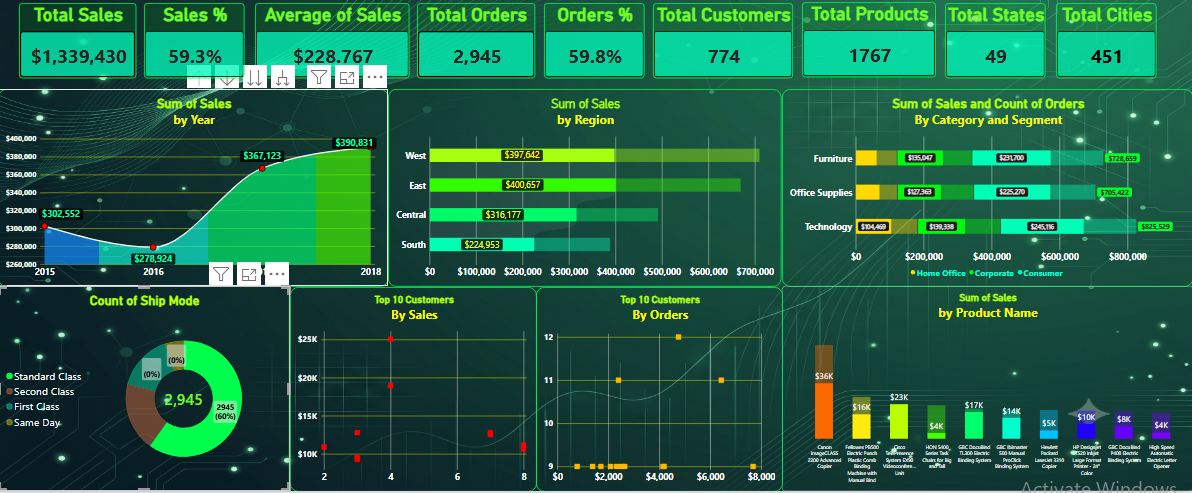

The dashboard page shown, as its layout file describes it:
{"tool":"powerbi","page":{"name":"Report","canvas":[2900,1200],"ordinal":0},"visuals":[{"type":"barChart","fields":{"Category":["sales_2.Region Hierarchy.Region","sales_2.Region Hierarchy.State","sales_2.Region Hierarchy.City"],"Y":["Sum(sales_2.Sales)"]},"box":[947.5,222.5,955,480],"z":0},{"type":"barChart","title":"Sum of Sales and Count of Orders","fields":{"Category":["sales_2.Category Hierarchy.Category","sales_2.Category Hierarchy.Sub-Category","sales_2.Category Hierarchy.Product Name"],"Series":["sales_2.Segment"],"Y":["Sum(sales_2.Sales)"]},"box":[1902.6,223.3,997.5,480],"z":1000},{"type":"cardVisual","title":"Total Sales","fields":{"Data":["Sum(sales_2.Sales)"]},"box":[50,15,284.9,182.8],"z":2000},{"type":"cardVisual","title":"Total Orders","fields":{"Data":["Count(sales_2.Order ID)"]},"box":[1017.5,15,287,182.8],"z":3000},{"type":"cardVisual","title":"Total Customers","fields":{"Data":["Count(sales_2.Customer Name)"]},"box":[1590,15,340,182.5],"z":4000},{"type":"cardVisual","title":"Total Cities","fields":{"Data":["Count(sales_2.City)"]},"box":[2567.5,15,244.5,182.8],"z":5000},{"type":"cardVisual","title":"Average of Sales","fields":{"Data":["Avg(sales_2.Sales)"]},"box":[622.5,15,375,182.5],"z":6000},{"type":"donutChart","title":"Count of Ship Mode","fields":{"Category":["sales_2.Ship Mode"],"Y":["Count(sales_2.Order ID)"]},"box":[0,702.5,707.5,497.5],"z":7000},{"type":"lineChart","fields":{"Category":["sales_2.Order Date.Variation.Date Hierarchy.Year","sales_2.Order Date.Variation.Date Hierarchy.Quarter","sales_2.Order Date.Variation.Date Hierarchy.Month","sales_2.Order Date.Variation.Date Hierarchy.Day"],"Y":["Sum(sales_2.Sales)"]},"box":[0,222.5,947.5,480],"z":8000},{"type":"scatterChart","title":"Top 10 Customers","fields":{"Category":["sales_2.Customer Name"],"X":["Count(sales_2.Order ID)"],"Y":["Sum(sales_2.Sales)"]},"box":[708.5,703,598.7,497.1],"z":9000},{"type":"clusteredColumnChart","fields":{"Category":["sales_2.Product Name"],"Y":["Sum(sales_2.Sales)"]},"box":[1902.5,702.5,997.5,497.5],"z":10000},{"type":"cardVisual","title":"Total States","fields":{"Data":["Count(sales_2.State)"]},"box":[2297.5,15,244.5,182.8],"z":11000},{"type":"cardVisual","title":"Total Products","fields":{"Data":["Count(sales_2.Product ID)"]},"box":[1950,12.5,325,182.5],"z":12000},{"type":"cardVisual","title":"Orders %","fields":{"Data":["sales_2.Orders Percentage"]},"box":[1325,15,244.5,182.8],"z":13000},{"type":"cardVisual","title":"Sales %","fields":{"Data":["sales_2.Sales Percentage"]},"box":[355,15,244.5,182.8],"z":14000},{"type":"scatterChart","title":"Top 10 Customers","fields":{"Category":["sales_2.Customer Name"],"X":["Sum(sales_2.Sales)"],"Y":["Count(sales_2.Order ID)"]},"box":[1304.5,703,598.7,497.1],"z":15000}]}

Visuals, with their boxes on the page's 2900x1200 design canvas (x1, y1, x2, y2). These are canvas units, not pixel positions in the 1192x493 screenshot, which may show the page scaled, cropped or inside an application window:
barChart - sales_2.Region Hierarchy.Region x sales_2.Region Hierarchy.State: region(948, 222, 1902, 702)
"Sum of Sales and Count of Orders" barChart: region(1903, 223, 2900, 703)
"Total Sales" cardVisual: region(50, 15, 335, 198)
"Total Orders" cardVisual: region(1018, 15, 1304, 198)
"Total Customers" cardVisual: region(1590, 15, 1930, 198)
"Total Cities" cardVisual: region(2568, 15, 2812, 198)
"Average of Sales" cardVisual: region(622, 15, 998, 198)
"Count of Ship Mode" donutChart: region(0, 702, 708, 1200)
lineChart - sales_2.Order Date.Variation.Date Hierarchy.Year x sales_2.Order Date.Variation.Date Hierarchy.Quarter: region(0, 222, 948, 702)
"Top 10 Customers" scatterChart: region(708, 703, 1307, 1200)
clusteredColumnChart - sales_2.Product Name x Sum(sales_2.Sales): region(1902, 702, 2900, 1200)
"Total States" cardVisual: region(2298, 15, 2542, 198)
"Total Products" cardVisual: region(1950, 12, 2275, 195)
"Orders %" cardVisual: region(1325, 15, 1570, 198)
"Sales %" cardVisual: region(355, 15, 600, 198)
"Top 10 Customers" scatterChart: region(1304, 703, 1903, 1200)
